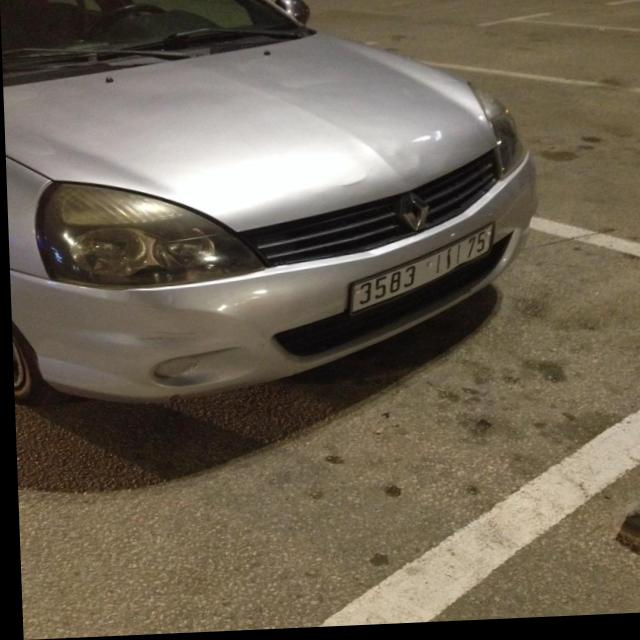License-Plate: (348, 230, 491, 316)
